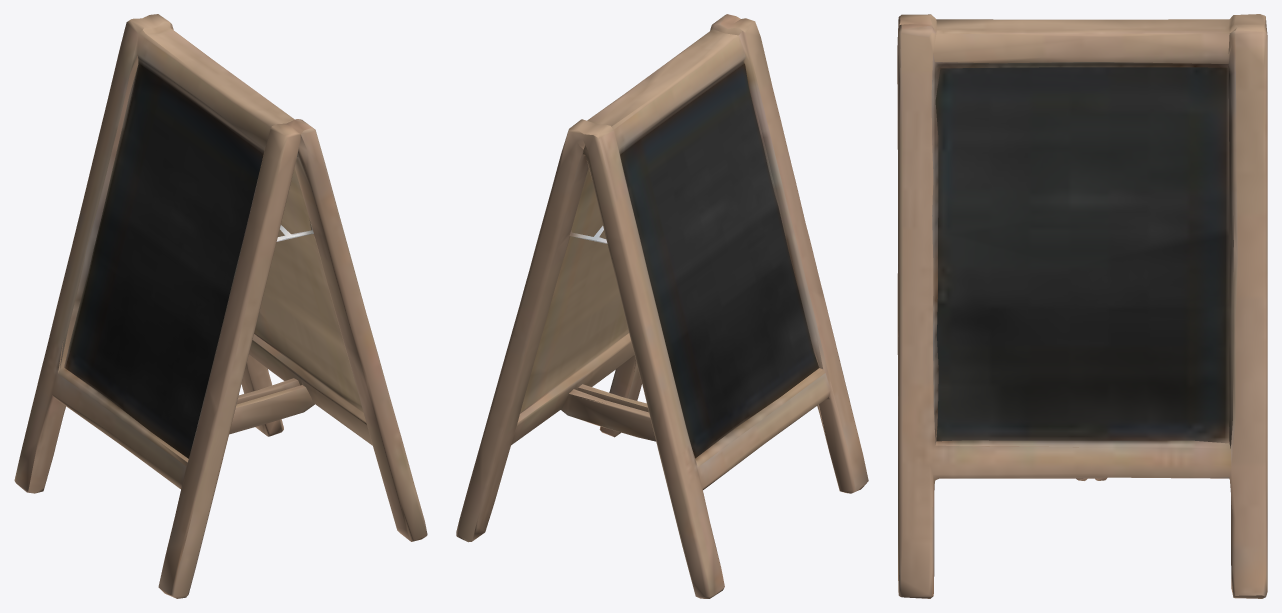
Rendered from aboard.glb.
3 views of the same model, side by side, from view 1: azimuth 30°, elevation 25°; view 2: azimuth 150°, elevation 25°; view 3: azimuth 270°, elevation 25° (orthographic). The views are drawn at different scales.
Visible parts, largest first — view 1: aboard; view 2: aboard; view 3: aboard.
Boxes of the visible parts, x1=… form: aboard: x1=14, y1=14, x2=427, y2=598; aboard: x1=456, y1=14, x2=868, y2=598; aboard: x1=897, y1=14, x2=1267, y2=598.
Size of the model in its own units: 0.5509 by 0.9 by 0.5937.
1 material, 1 textured.
